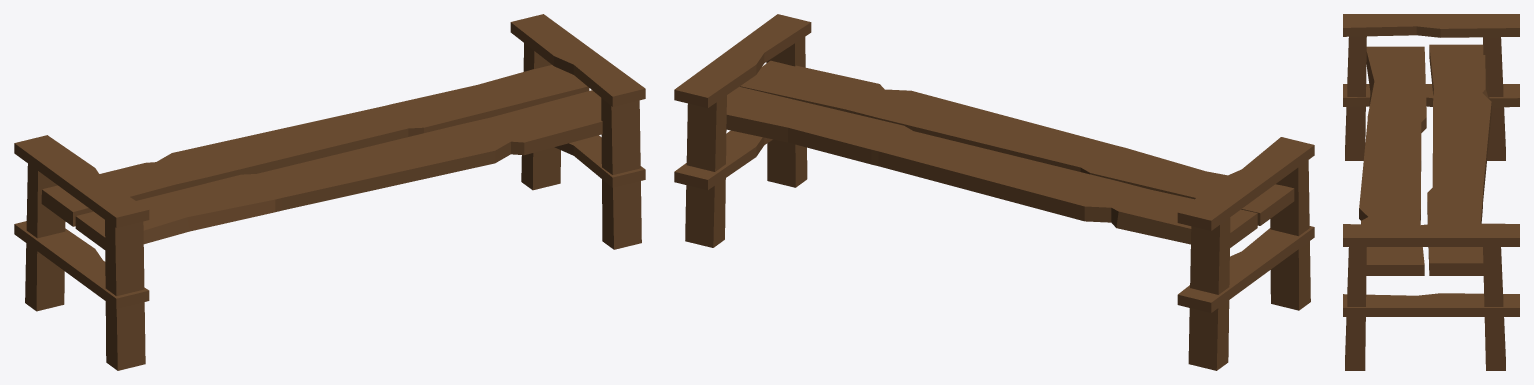
Rendered from bench.glb.
The picture shows the model from 3 angles, left to right: view 1: azimuth 30°, elevation 25°; view 2: azimuth 150°, elevation 25°; view 3: azimuth 270°, elevation 25°; orthographic projection. The views are drawn at different scales.
Parts seen in each view (by area): view 1: Bench_2; view 2: Bench_2; view 3: Bench_2.
Boxes of the visible parts, x1,y1,x2,y2 form: Bench_2: (14, 14, 645, 370); Bench_2: (674, 14, 1314, 370); Bench_2: (1343, 14, 1519, 370).
Size of the model in its own units: 6.65 by 1.86 by 2.22.
